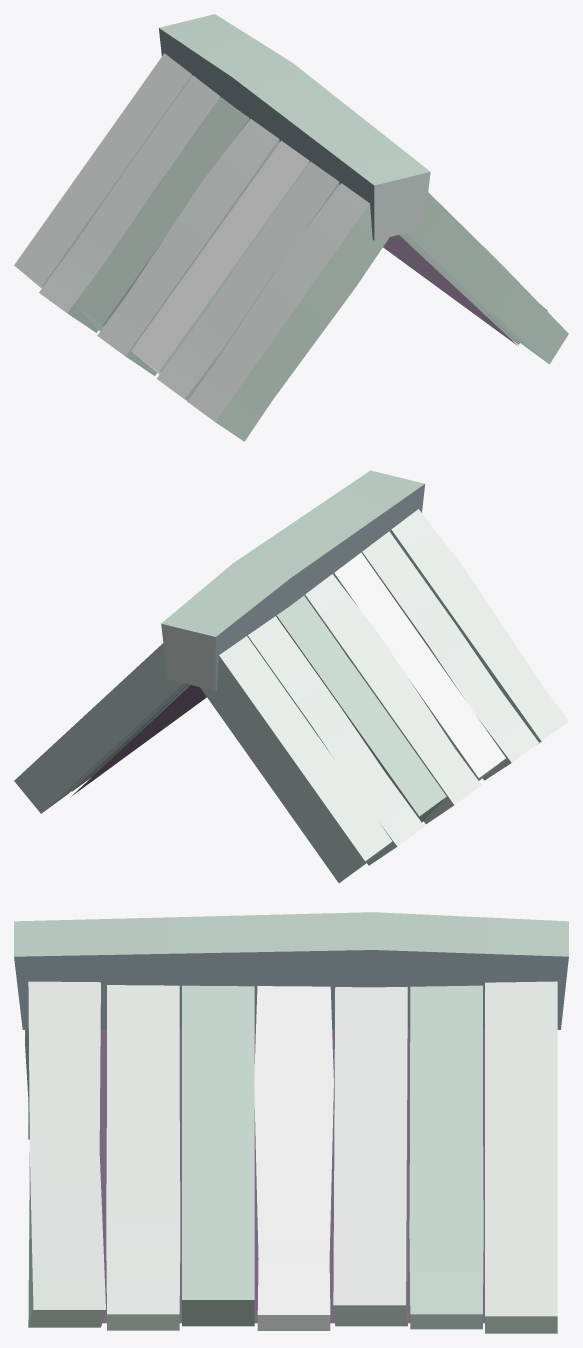
Rendered from Roof02_White.glb.
3 renders of one model, top to bottom at view 1: azimuth 30°, elevation 25°; view 2: azimuth 150°, elevation 25°; view 3: azimuth 270°, elevation 25°, orthographic. The views are drawn at different scales.
Parts seen in each view (by area): view 1: Roof02_White; view 2: Roof02_White; view 3: Roof02_White.
Part boxes in pixels (box(x1,y1,x2,y2)): Roof02_White: box(14, 14, 568, 441); Roof02_White: box(14, 470, 568, 882); Roof02_White: box(14, 912, 568, 1333).
Size of the model in its own units: 2.41 by 1.49 by 2.46.
Materials: 1 (1 with a texture image).
